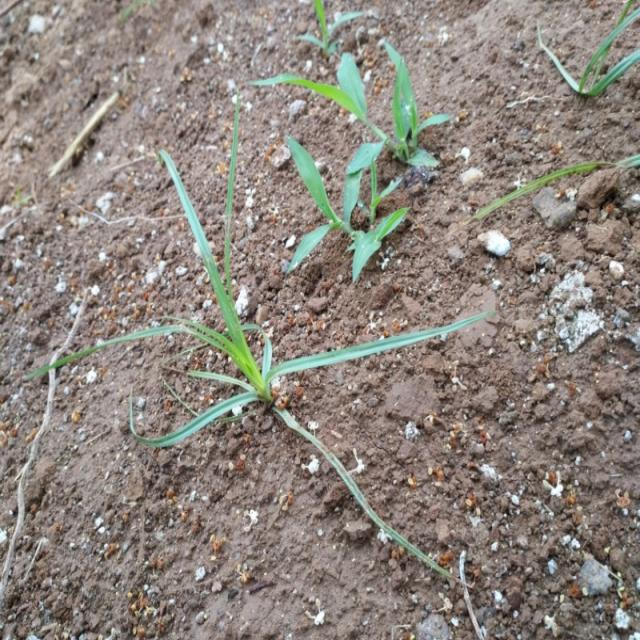sedge: (34, 157, 416, 471)
